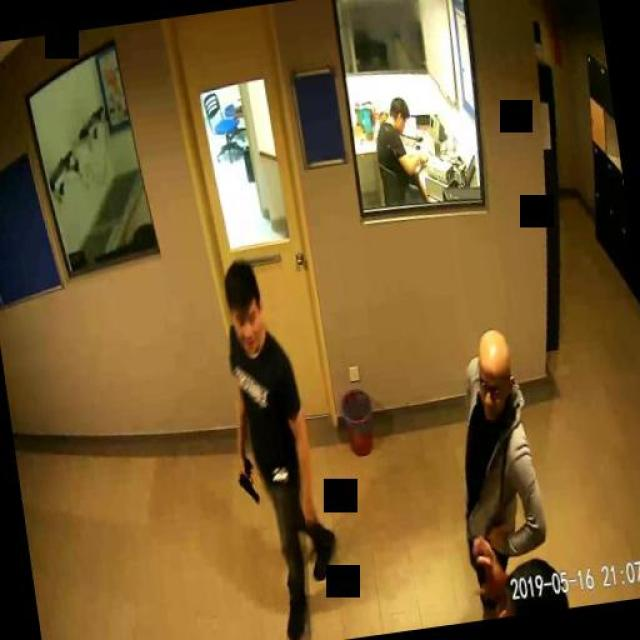gun: (234, 456, 258, 504)
